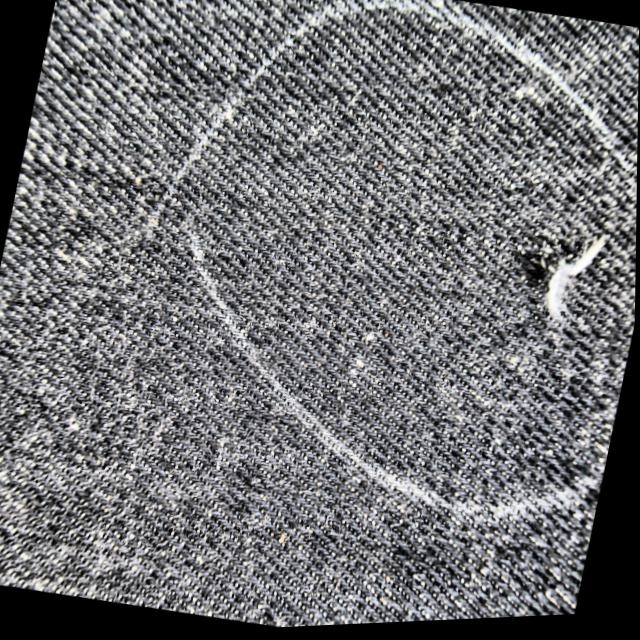Hole: (505, 209, 632, 338)
